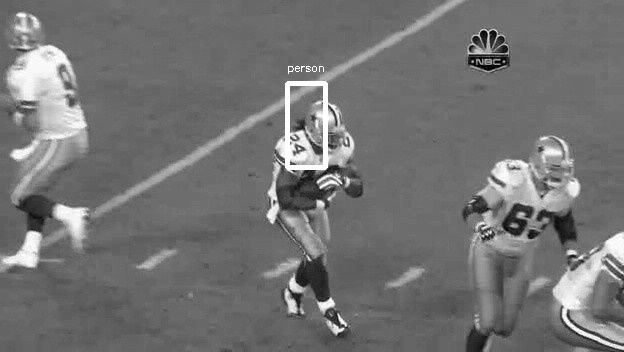person: (306, 99, 345, 149), (305, 99, 344, 149), (307, 99, 346, 149), (306, 98, 345, 148), (306, 100, 345, 150)
target_negative: (64, 123, 305, 226), (389, 98, 548, 224), (81, 9, 312, 65), (420, 212, 505, 287), (155, 266, 196, 326), (559, 155, 577, 280)
